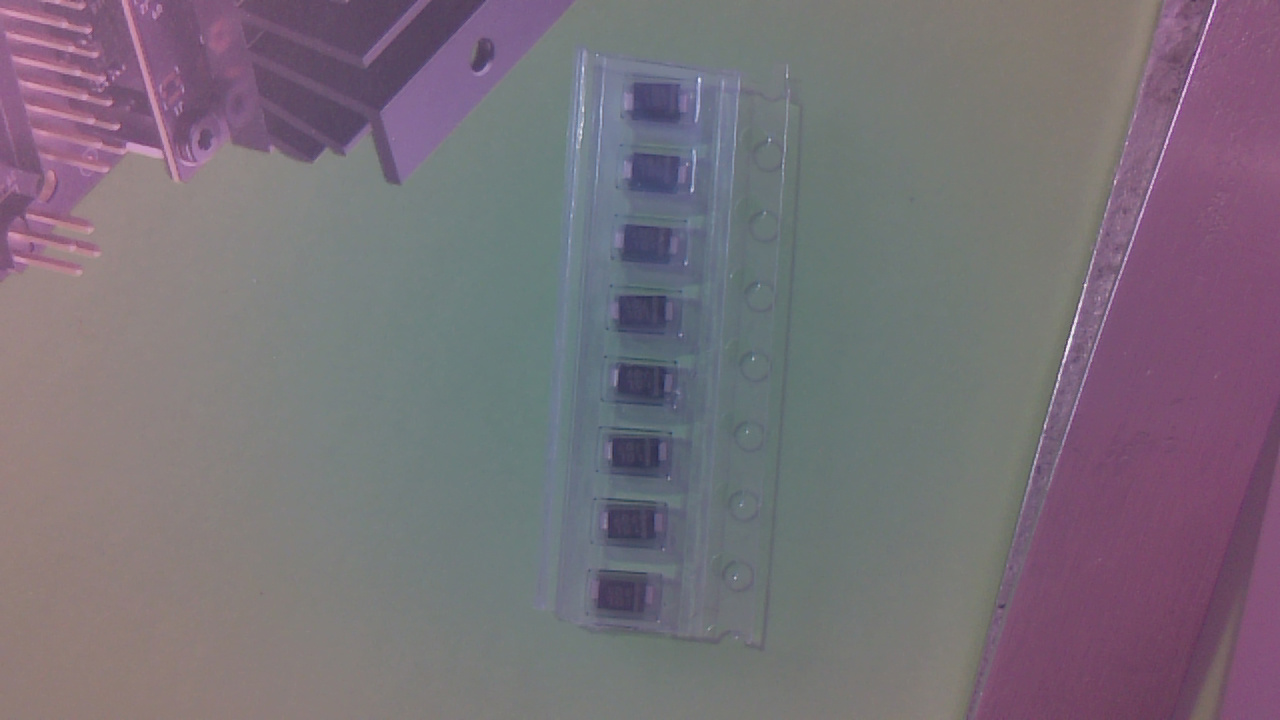Diode: (625, 84, 692, 126), (603, 508, 671, 549), (610, 437, 677, 477), (592, 580, 660, 618), (624, 157, 691, 195), (616, 228, 682, 265), (614, 367, 679, 404), (614, 298, 682, 332)
